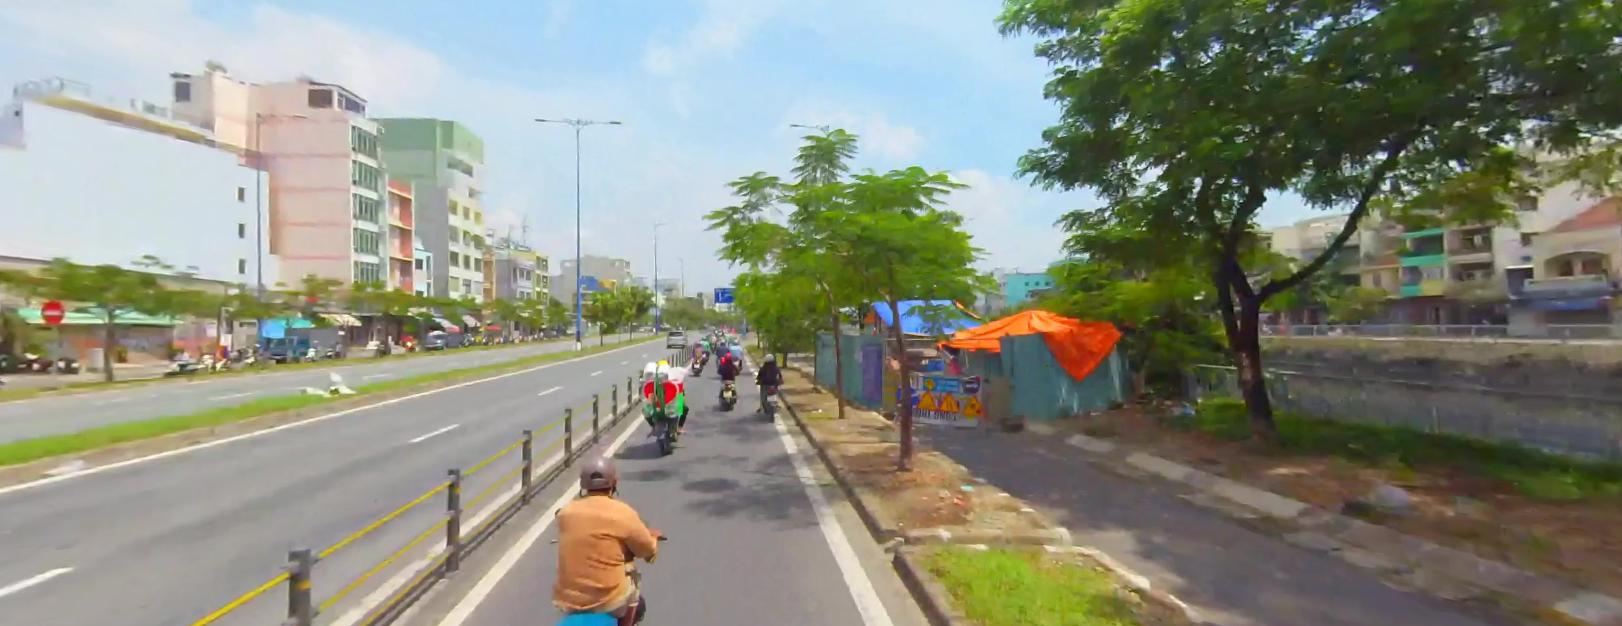Cam nguoc chieu: (40, 297, 64, 321)
Nguy hiem: (962, 394, 986, 416), (917, 389, 937, 409), (938, 393, 959, 411)
